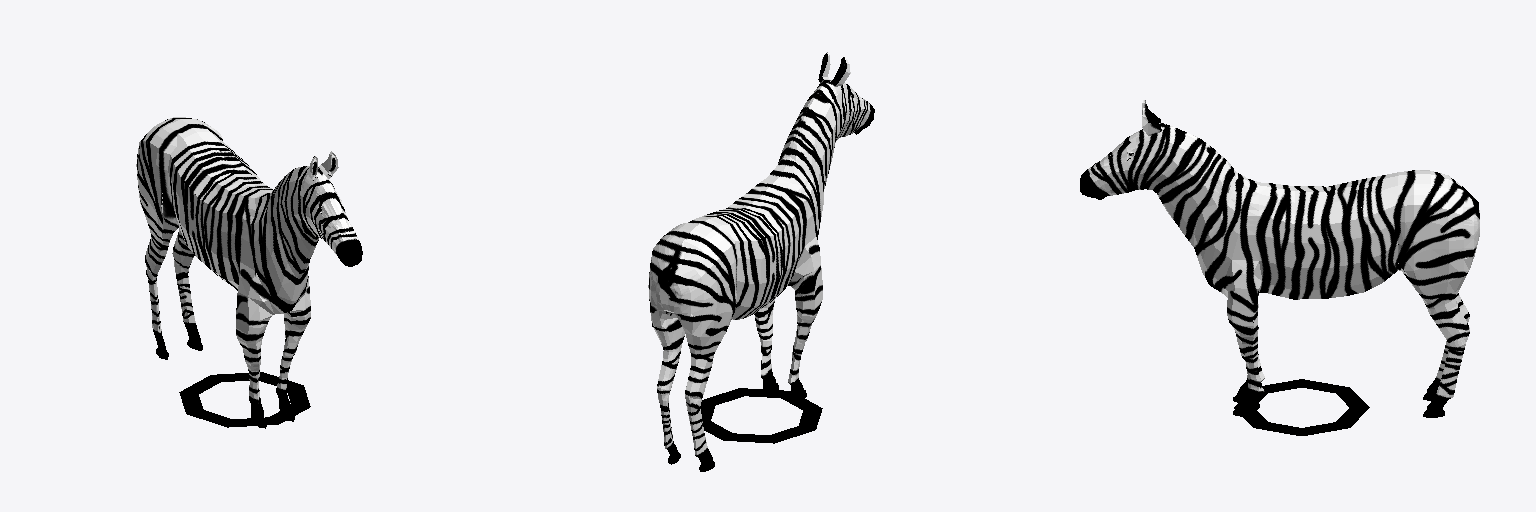
The picture shows the model from 3 angles: view 1: azimuth 30°, elevation 25°; view 2: azimuth 150°, elevation 25°; view 3: azimuth 270°, elevation 25°; orthographic projection.
Visible parts, largest first — view 1: Plane, CustomShapeRoot_Circle; view 2: Plane, CustomShapeRoot_Circle; view 3: Plane, CustomShapeRoot_Circle.
Part boxes in pixels (x1,y1,x2,y2): Plane: (136,117,362,428); CustomShapeRoot_Circle: (179,372,310,427); Plane: (648,52,874,471); CustomShapeRoot_Circle: (700,388,822,443); Plane: (1080,100,1479,417); CustomShapeRoot_Circle: (1234,379,1369,435).
Bounding box in the file's own units: 3.06 × 7.52 × 8.98.
1 materials, 1 textured.